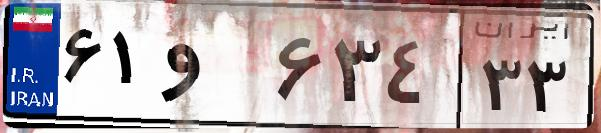1: (110, 28, 158, 98)
3: (330, 28, 385, 110), (475, 38, 525, 113), (525, 38, 570, 115)
4: (385, 28, 445, 110)
6: (270, 28, 330, 110), (57, 26, 110, 100)
و: (158, 20, 270, 120)
